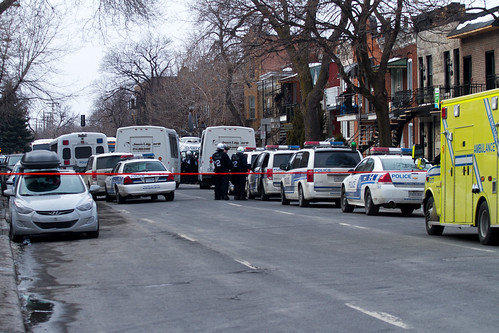ambulance: (425, 91, 499, 242)
building: (418, 1, 499, 147), (351, 13, 422, 142)
car: (1, 169, 106, 239), (341, 145, 438, 214), (277, 142, 365, 201), (106, 152, 179, 207)
policeman: (209, 138, 230, 200), (230, 139, 251, 200)
street: (27, 208, 494, 332)
tree: (265, 1, 359, 136), (325, 1, 408, 146)
